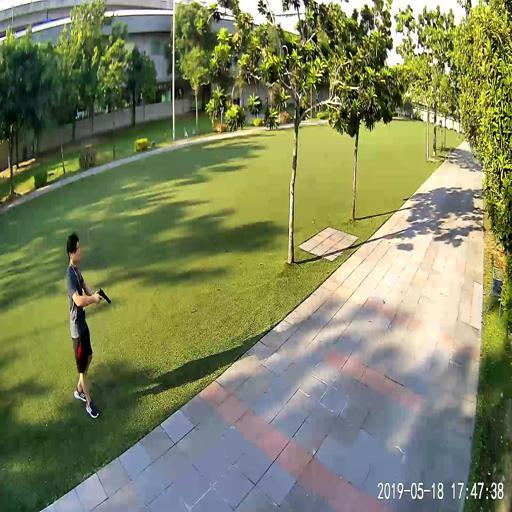Handgun: (96, 285, 110, 304)
